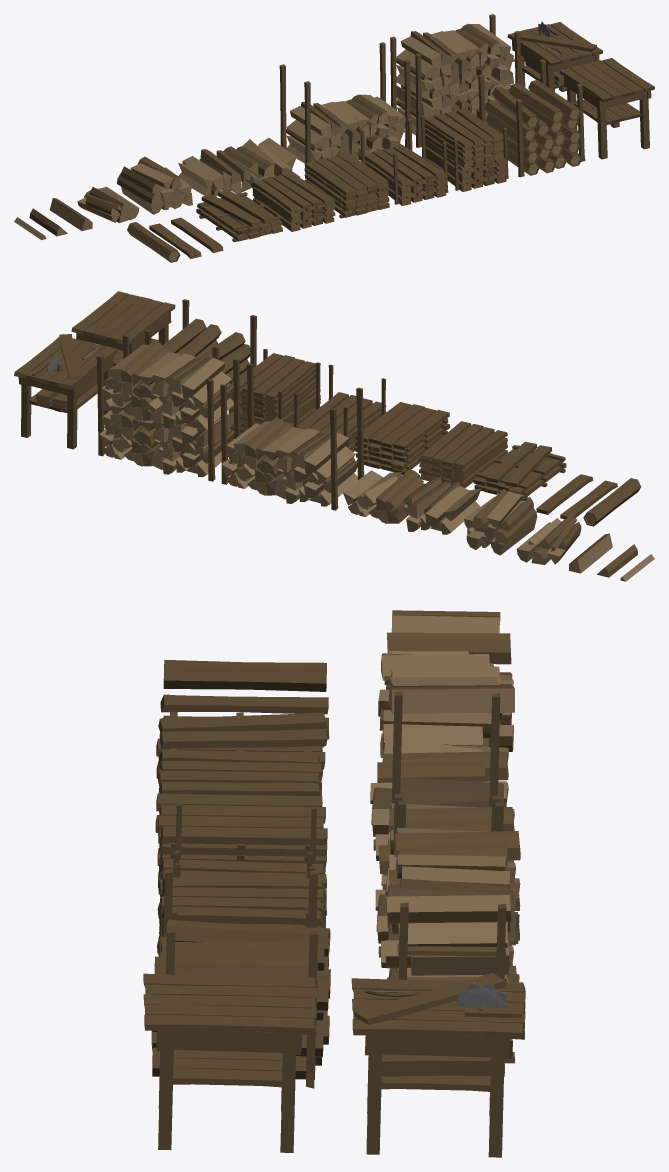
File: wooden_props.glb
3 renders of one model, top to bottom at view 1: azimuth 30°, elevation 25°; view 2: azimuth 150°, elevation 25°; view 3: azimuth 270°, elevation 25°, orthographic. The views are drawn at different scales.
Visible parts, largest first — view 1: Firewood_pile_05.002, Firewood_pile_05.005, Firewood_pile_05.004, Firewood_pile_05.007, Firewood_pile_05.012, Firewood_pile_05.001, Firewood_pile_05.010, Firewood_pile_05.008, Firewood_pile_05.015, Firewood_pile_05.011, Firewood_pile_05.009, Firewood_pile_05.016 (+6 smaller); view 2: Firewood_pile_05.002, Firewood_pile_05.005, Firewood_pile_05.001, Firewood_pile_05.015, Firewood_pile_05.007, Firewood_pile_05.010, Firewood_pile_05.012, Firewood_pile_05.011, Firewood_pile_05.009, Firewood_pile_05.004, Firewood_pile_05.016, Firewood_pile_05.008 (+6 smaller); view 3: Firewood_pile_05.002, Firewood_pile_05.015, Firewood_pile_05.012, Firewood_pile_05.004, Firewood_pile_05.010, Firewood_pile_05.001, Firewood_pile_05.016, Firewood_pile_05.007, Firewood_pile_05.011, Firewood_pile_05.009, Firewood_pile_05.005, Firewood_pile_05.024 (+5 smaller).
Part boxes in pixels (left/top/right/bottom): Firewood_pile_05.002: left=390, top=14, right=520, bottom=147; Firewood_pile_05.005: left=279, top=42, right=410, bottom=174; Firewood_pile_05.004: left=478, top=59, right=585, bottom=177; Firewood_pile_05.007: left=420, top=105, right=508, bottom=191; Firewood_pile_05.012: left=559, top=58, right=654, bottom=159; Firewood_pile_05.001: left=178, top=138, right=300, bottom=196; Firewood_pile_05.010: left=304, top=152, right=389, bottom=218; Firewood_pile_05.008: left=360, top=119, right=448, bottom=205; Firewood_pile_05.015: left=507, top=21, right=602, bottom=91; Firewood_pile_05.011: left=252, top=172, right=335, bottom=231; Firewood_pile_05.009: left=196, top=189, right=282, bottom=242; Firewood_pile_05.016: left=117, top=156, right=192, bottom=214; Firewood_pile_05.002: left=96, top=335, right=240, bottom=481; Firewood_pile_05.005: left=220, top=363, right=364, bottom=510; Firewood_pile_05.001: left=343, top=469, right=481, bottom=534; Firewood_pile_05.015: left=14, top=334, right=117, bottom=449; Firewood_pile_05.007: left=228, top=349, right=320, bottom=434; Firewood_pile_05.010: left=355, top=402, right=450, bottom=474; Firewood_pile_05.012: left=71, top=291, right=175, bottom=365; Firewood_pile_05.011: left=418, top=421, right=507, bottom=487; Firewood_pile_05.009: left=473, top=441, right=566, bottom=500; Firewood_pile_05.004: left=144, top=299, right=256, bottom=382; Firewood_pile_05.016: left=464, top=489, right=537, bottom=555; Firewood_pile_05.008: left=294, top=364, right=386, bottom=451; Firewood_pile_05.002: left=385, top=800, right=520, bottom=1076; Firewood_pile_05.015: left=351, top=972, right=525, bottom=1157; Firewood_pile_05.012: left=143, top=973, right=317, bottom=1152; Firewood_pile_05.004: left=151, top=868, right=330, bottom=1088; Firewood_pile_05.010: left=155, top=793, right=327, bottom=887; Firewood_pile_05.001: left=370, top=723, right=508, bottom=860; Firewood_pile_05.016: left=378, top=666, right=514, bottom=757; Firewood_pile_05.007: left=157, top=862, right=324, bottom=956; Firewood_pile_05.011: left=157, top=749, right=322, bottom=812; Firewood_pile_05.009: left=156, top=711, right=329, bottom=779; Firewood_pile_05.005: left=375, top=691, right=514, bottom=967; Firewood_pile_05.024: left=163, top=659, right=326, bottom=691.
Bounding box in the file's own units: 9.52 × 1.55 × 2.85.
1 material, 1 textured.
